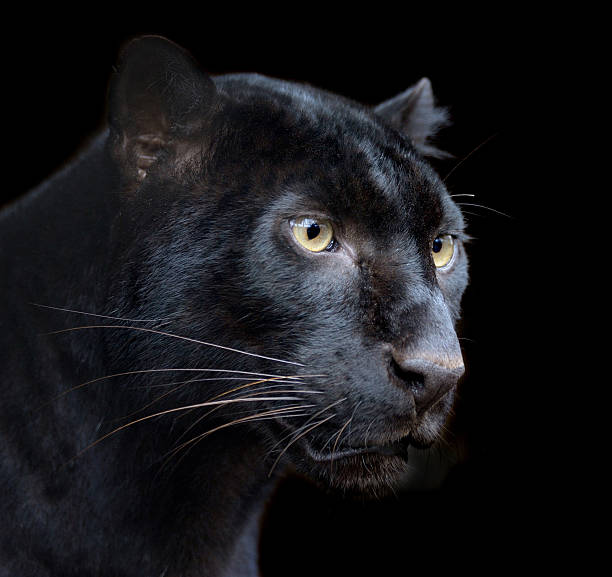panther: (76, 17, 546, 522)
